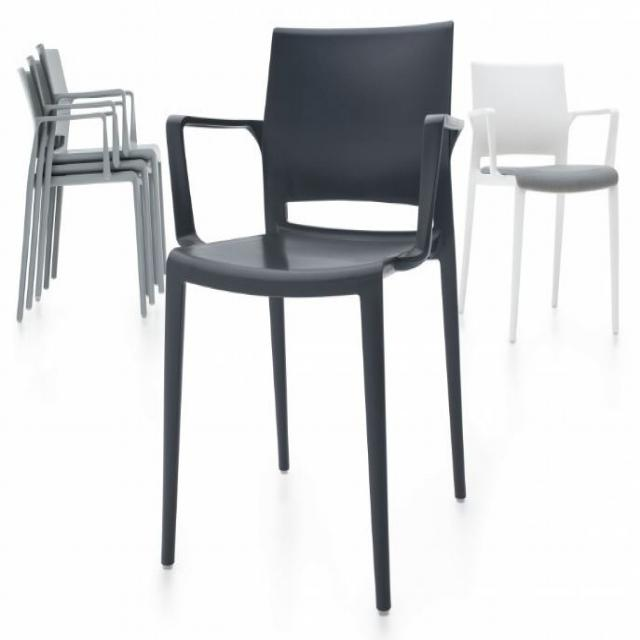Chair: (151, 17, 467, 619), (458, 58, 624, 351), (18, 41, 165, 330)
